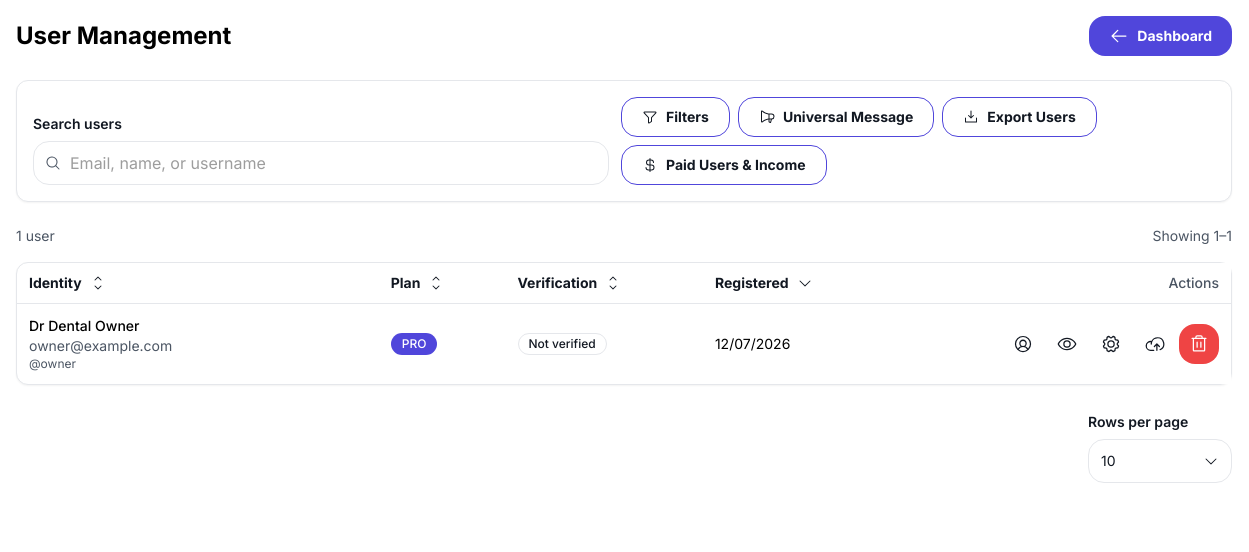
UsersManagement › debounces bounded search, clears it visibly, and requests deterministic sorting
Check: the text "owner@example.com" is shown, box 29,336 -> 172,354
Step 1. Type " Dental " into the field labelled "Search users" → {"x": 321, "y": 163}, box 33,141 -> 609,185
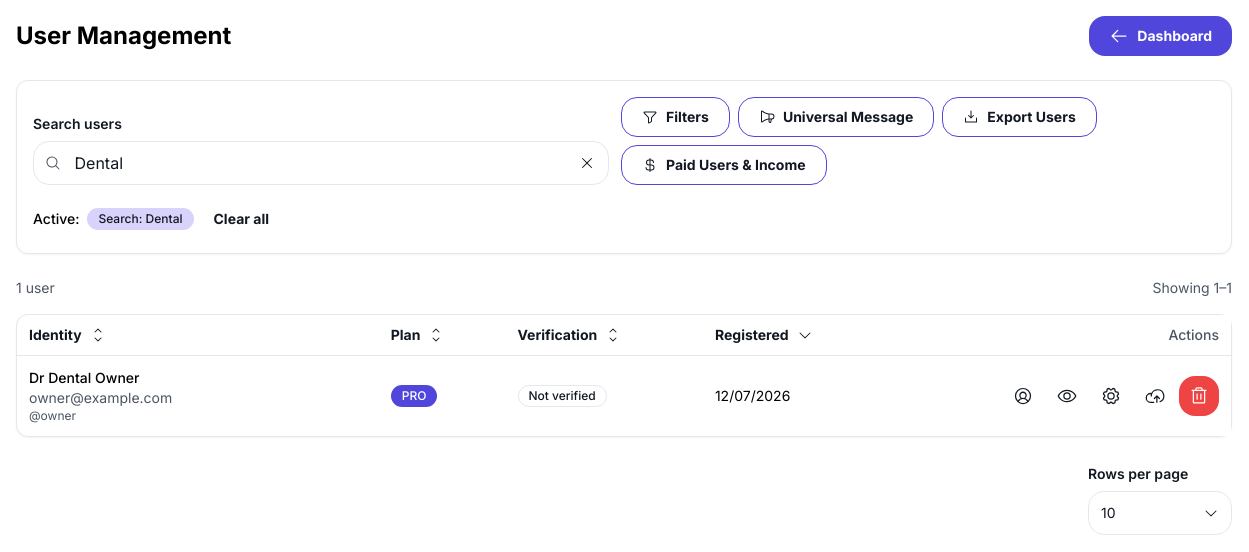
Step 2. Click the button "Plan" → {"x": 418, "y": 335}, box 379,317 -> 456,353
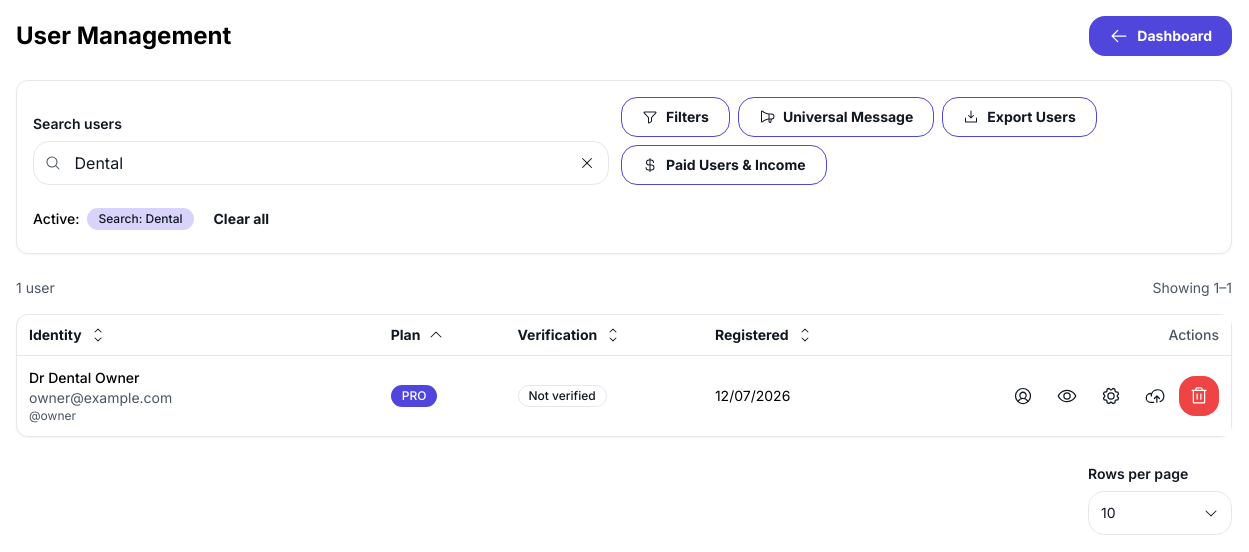
Step 3. Click the button named "Clear user search" → {"x": 587, "y": 163}, box 567,143 -> 607,183
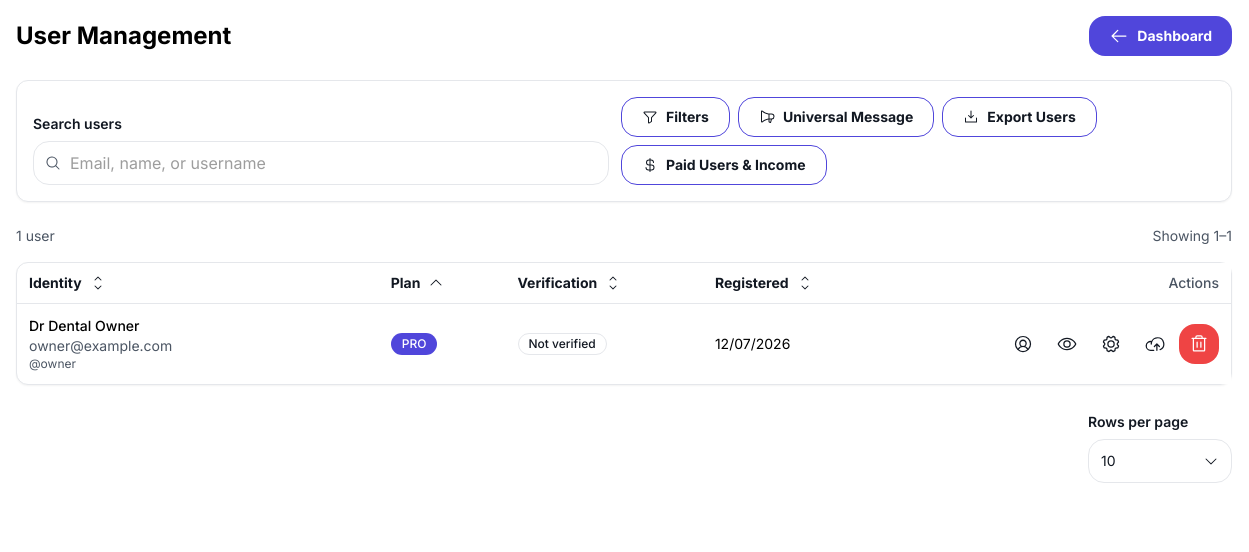
Check: the field labelled "Search users" is empty, box 33,141 -> 609,185
